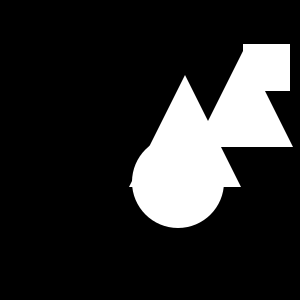circle: (243, 44, 290, 91), (155, 160, 200, 205)
rectangle: (132, 136, 224, 228)
triangle: (129, 75, 241, 187), (195, 49, 293, 147)
